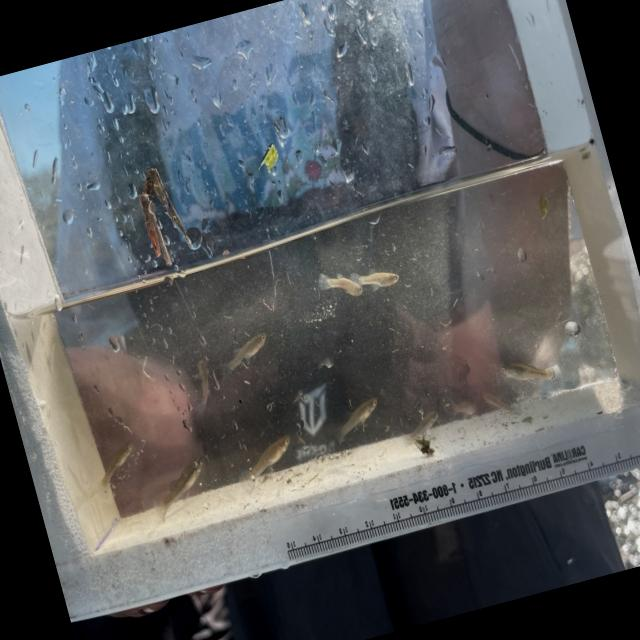Sivrisinek Baligi: (319, 372, 402, 448), (145, 442, 221, 522), (228, 421, 305, 496), (214, 316, 279, 379), (87, 431, 146, 500), (492, 342, 564, 394), (178, 346, 225, 413), (310, 259, 366, 310), (348, 256, 407, 302)
